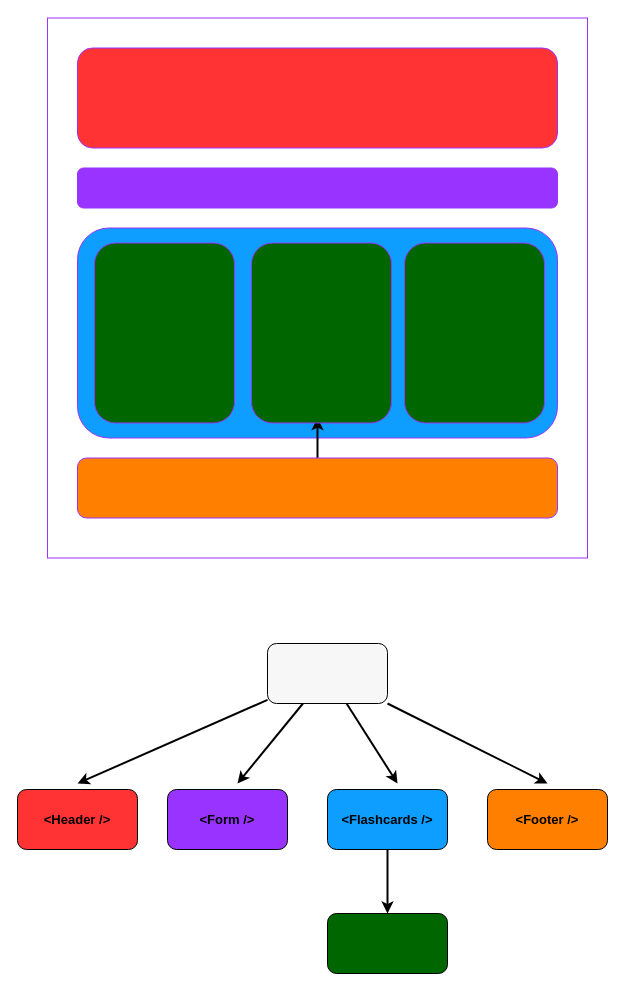
Image size: 625x991. Some labels were removed from this diagram. Here are the shapes that lost their labels. From the top down, the centre of each, then its label:
the point at 327,673: <App />
the point at 387,943: <Flashcard />
